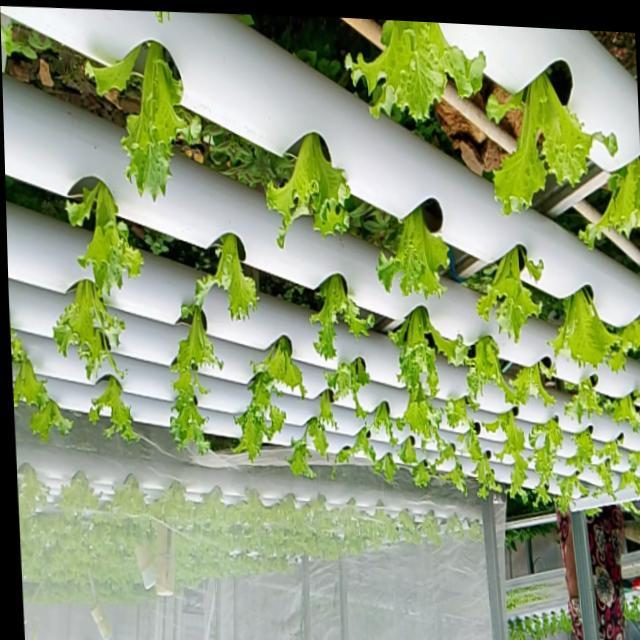Baby: (490, 77, 620, 217), (349, 20, 489, 123), (126, 42, 203, 202), (268, 133, 353, 248), (70, 180, 147, 296), (173, 297, 225, 453), (379, 198, 453, 298), (57, 279, 127, 379), (480, 245, 545, 342), (551, 288, 621, 372), (198, 233, 261, 320), (313, 274, 377, 359), (458, 335, 529, 406), (235, 372, 288, 460), (327, 356, 385, 417), (254, 335, 309, 396), (92, 375, 142, 441), (11, 338, 54, 412), (530, 417, 565, 502), (399, 382, 445, 446), (559, 474, 591, 512), (571, 429, 597, 472), (437, 438, 460, 471), (447, 397, 471, 428), (597, 459, 616, 497)
